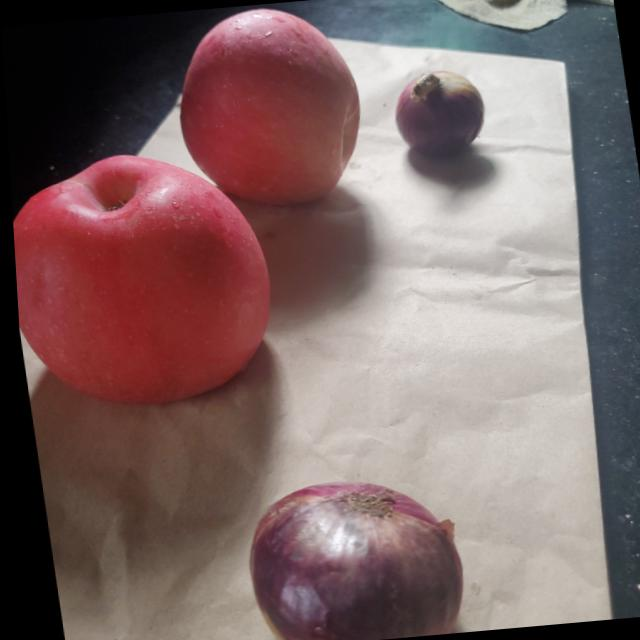apple: (7, 144, 282, 414), (166, 2, 375, 215)
onion: (228, 472, 460, 640), (387, 68, 488, 172)
